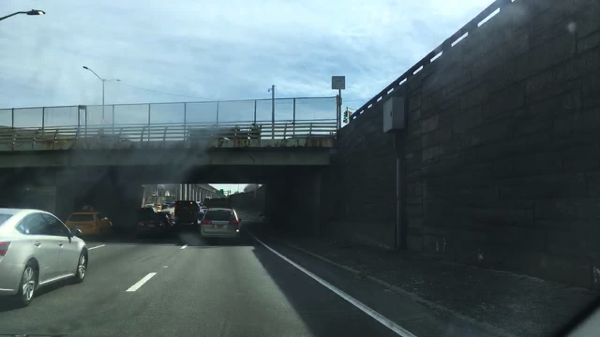car: (0, 208, 88, 306), (64, 204, 116, 240), (200, 207, 242, 240), (134, 213, 174, 240), (186, 127, 249, 139), (174, 198, 199, 224), (93, 133, 131, 141), (135, 206, 156, 217), (162, 210, 173, 220), (204, 197, 214, 206), (198, 209, 204, 220), (156, 203, 163, 210), (147, 201, 154, 208), (199, 201, 205, 209), (162, 200, 168, 205), (171, 201, 176, 206), (163, 205, 168, 210)
traffic light: (348, 111, 352, 123), (345, 111, 348, 123), (342, 111, 345, 122)
traffic sign: (332, 75, 345, 91), (219, 189, 223, 195)
